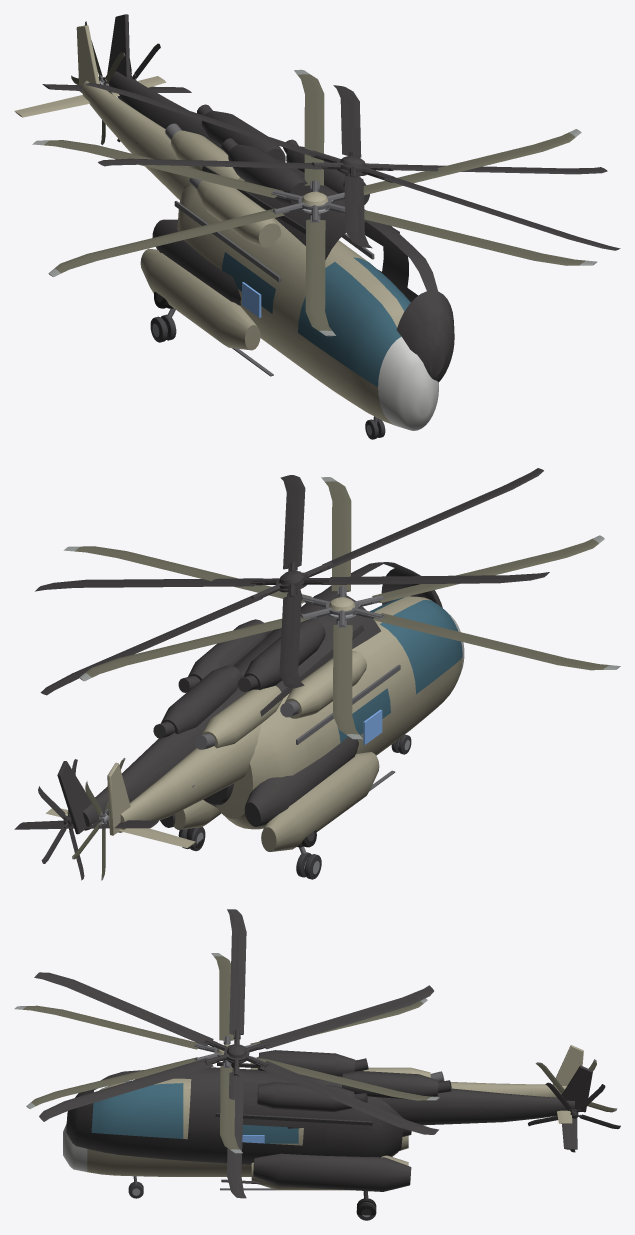
File: heavyLift__z_8l.glb
3 views of the same model, one above another, from view 1: azimuth 30°, elevation 25°; view 2: azimuth 150°, elevation 25°; view 3: azimuth 270°, elevation 25° (orthographic). The views are drawn at different scales.
Visible parts, largest first — view 1: Fuselage_Mesh, Wreck, Rotor_Main_Mesh, Engines_Mesh, Landing_Gear_Mesh; view 2: Wreck, Fuselage_Mesh, Rotor_Main_Mesh, Engines_Mesh, Landing_Gear_Mesh, Rotor_Tail_Mesh; view 3: Wreck, Fuselage_Mesh, Rotor_Main_Mesh, Engines_Mesh, Rotor_Tail_Mesh.
Part boxes in pixels (<box>): Fuselage_Mesh: <box>14,25,438,430</box>; Wreck: <box>42,14,620,382</box>; Rotor_Main_Mesh: <box>32,69,597,336</box>; Engines_Mesh: <box>165,123,281,247</box>; Landing_Gear_Mesh: <box>150,308,385,439</box>; Wreck: <box>14,468,549,880</box>; Fuselage_Mesh: <box>46,596,464,851</box>; Rotor_Main_Mesh: <box>63,477,620,739</box>; Engines_Mesh: <box>194,651,366,749</box>; Landing_Gear_Mesh: <box>180,734,411,879</box>; Rotor_Tail_Mesh: <box>72,758,125,880</box>; Wreck: <box>34,909,620,1216</box>; Fuselage_Mesh: <box>63,1045,583,1190</box>; Rotor_Main_Mesh: <box>14,953,439,1153</box>; Engines_Mesh: <box>250,1060,444,1081</box>; Rotor_Tail_Mesh: <box>535,1059,617,1112</box>.
Size of what is drawn, in the model's own units: 19.83 by 9.26 by 24.22.
